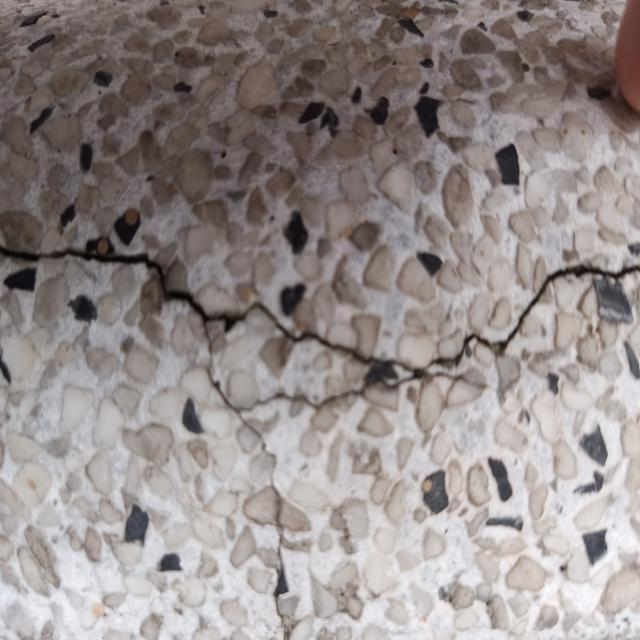branched cracks: (0, 237, 639, 450), (264, 482, 289, 639)
